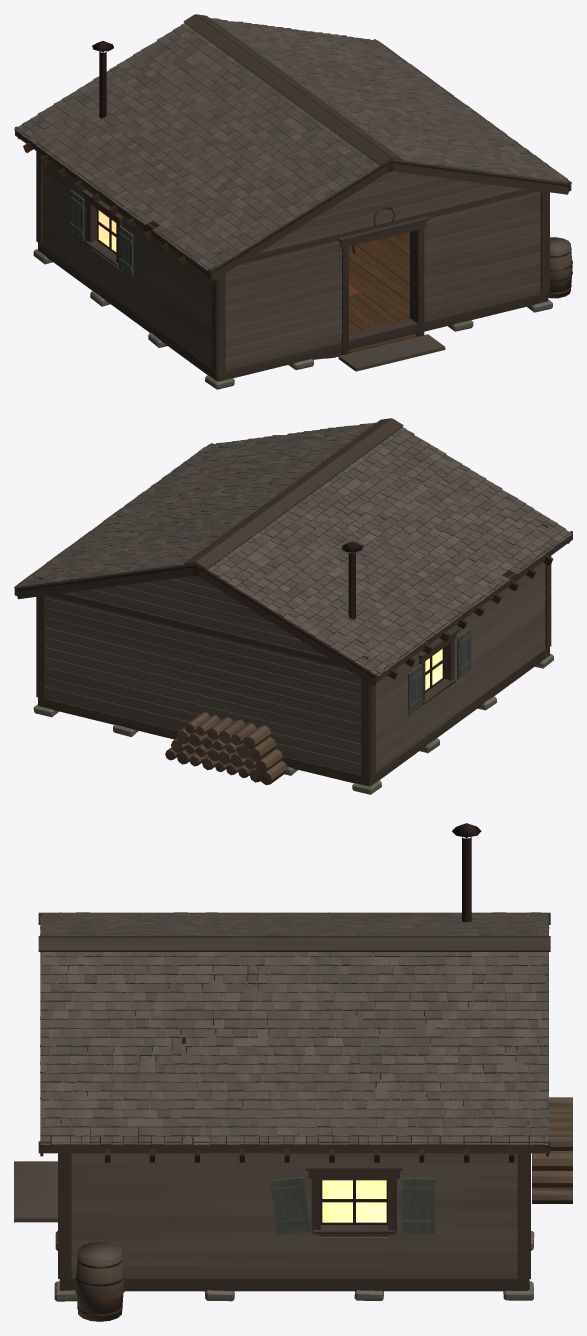
The model's file is hut.glb.
The picture shows the model from 3 angles, top to bottom: view 1: azimuth 30°, elevation 25°; view 2: azimuth 150°, elevation 25°; view 3: azimuth 270°, elevation 25°; orthographic projection. The views are drawn at different scales.
Parts seen in each view (by area): view 1: hut-shingles, hut-walls, hut-trim, hut-floor, hut-roof-timber, hut-shutters, hut-stone, hut-furniture, hut-iron, hut-glow; view 2: hut-shingles, hut-walls, hut-trim, hut-furniture, hut-roof-timber, hut-shutters, hut-stone, hut-iron; view 3: hut-shingles, hut-walls, hut-trim, hut-furniture, hut-shutters, hut-glow, hut-iron, hut-roof-timber, hut-stone.
Part boxes in pixels (x1,y1,x2,y2): hut-shingles: (14,18,571,270); hut-walls: (39,41,546,369); hut-trim: (15,14,571,381); hut-floor: (349,232,416,353); hut-roof-timber: (23,142,568,272); hut-shutters: (70,190,133,276); hut-stone: (33,249,552,389); hut-furniture: (352,237,572,298); hut-iron: (92,41,572,342); hut-glow: (98,210,116,251); hut-shingles: (14,422,572,676); hut-walls: (39,445,548,774); hut-trim: (14,418,572,786); hut-furniture: (165,712,287,784); hut-roof-timber: (17,555,552,679); hut-shutters: (408,628,471,715); hut-stone: (33,654,553,794); hut-iron: (341,541,363,619); hut-shingles: (40,912,549,1145); hut-walls: (60,912,529,1278); hut-trim: (14,912,550,1291); hut-furniture: (76,1097,572,1321); hut-shutters: (270,1177,434,1235); hut-glow: (322,1180,386,1222); hut-iron: (75,823,481,1316); hut-roof-timber: (50,952,544,1162); hut-stone: (54,1231,534,1301).
Bounding box in the file's own units: 7.83 × 4.32 × 7.47.
